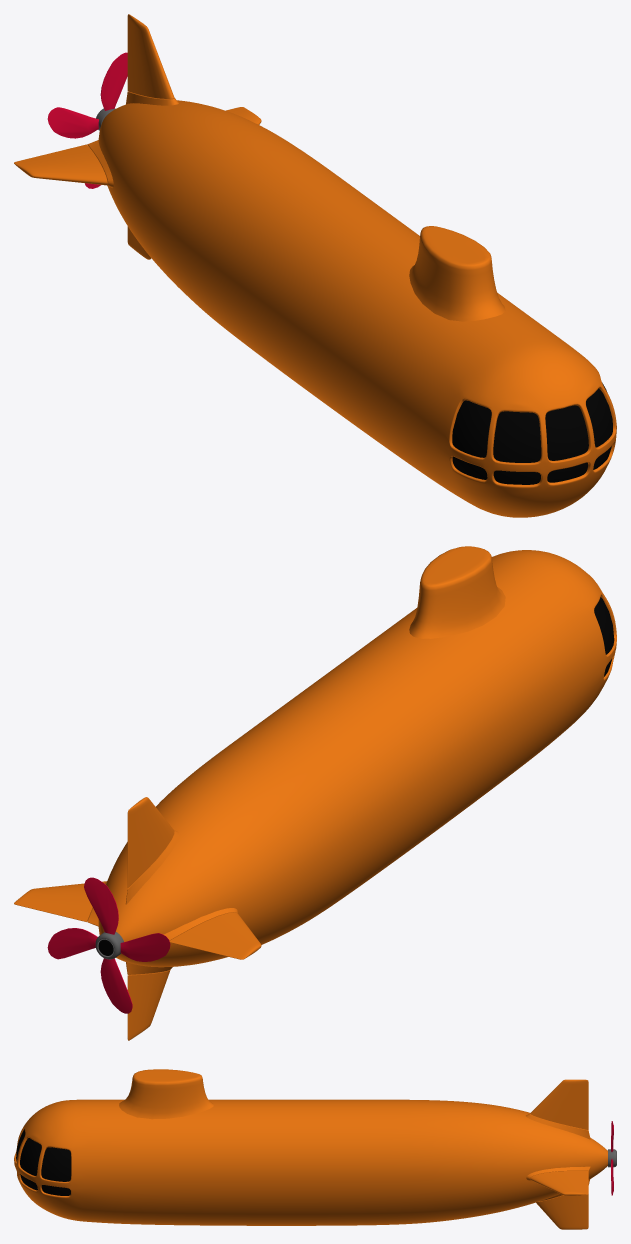
The model's file is subplaceholder2.FBX.
The picture shows the model from 3 angles, top to bottom: view 1: azimuth 30°, elevation 25°; view 2: azimuth 150°, elevation 25°; view 3: azimuth 270°, elevation 25°; orthographic projection. The views are drawn at different scales.
Visible parts, largest first — view 1: Sub, Cube.001, Sub.003, Propeller, Sub.002; view 2: Sub, Propeller, Sub.003, Sub.002, Sub.001, Sub.004, Cube.001; view 3: Sub, Cube.001, Sub.003, Sub.004, Sub.001, Propeller.
Boxes of the visible parts, left/top/right/bottom form: Sub: left=87, top=91, right=616, bottom=517; Cube.001: left=452, top=382, right=612, bottom=484; Sub.003: left=127, top=14, right=174, bottom=98; Propeller: left=47, top=52, right=127, bottom=188; Sub.002: left=14, top=144, right=107, bottom=185; Sub: left=88, top=546, right=616, bottom=974; Propeller: left=47, top=877, right=170, bottom=1013; Sub.003: left=127, top=797, right=174, bottom=887; Sub.002: left=169, top=912, right=261, bottom=959; Sub.001: left=14, top=881, right=106, bottom=921; Sub.004: left=127, top=969, right=170, bottom=1040; Cube.001: left=594, top=597, right=614, bottom=676; Sub: left=14, top=1069, right=607, bottom=1225; Cube.001: left=16, top=1129, right=71, bottom=1195; Sub.003: left=530, top=1079, right=588, bottom=1129; Sub.004: left=536, top=1194, right=588, bottom=1229; Sub.001: left=530, top=1171, right=588, bottom=1195; Propeller: left=608, top=1121, right=616, bottom=1195.
Bounding box in the file's own units: 534 × 527 × 1873.
